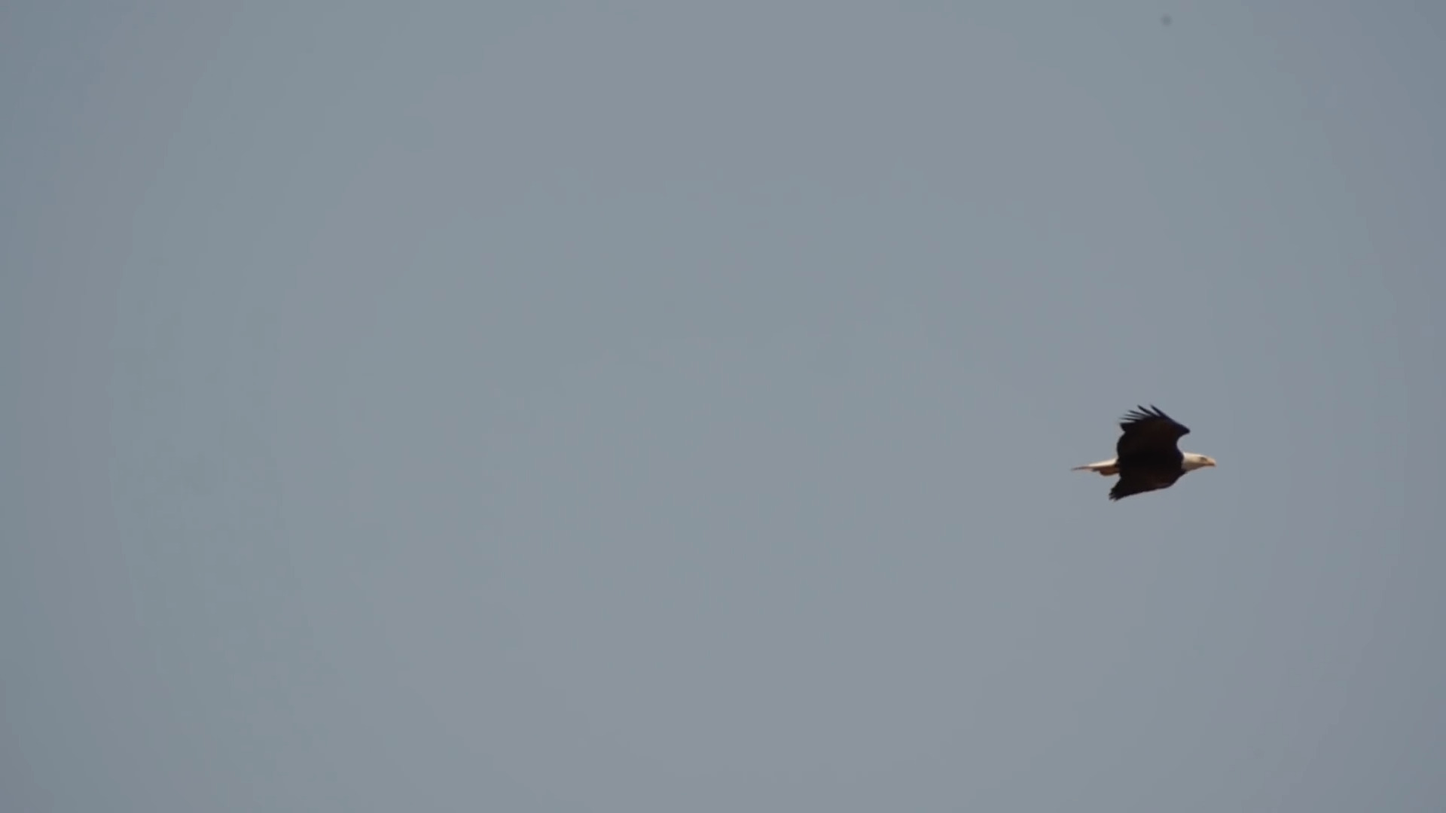not_drone: (1075, 392, 1227, 498)
